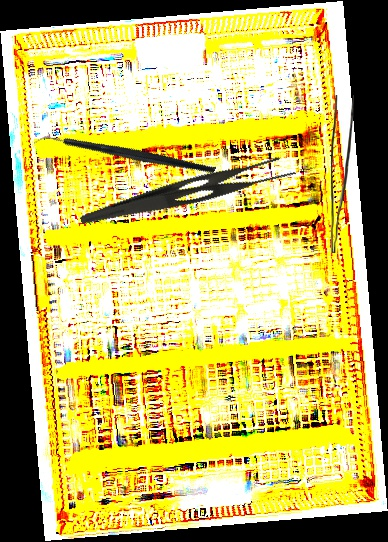Chopper: (31, 79, 218, 234)
Dressing Forceps: (79, 143, 297, 249)
Tissue Forceps: (331, 95, 354, 253)
